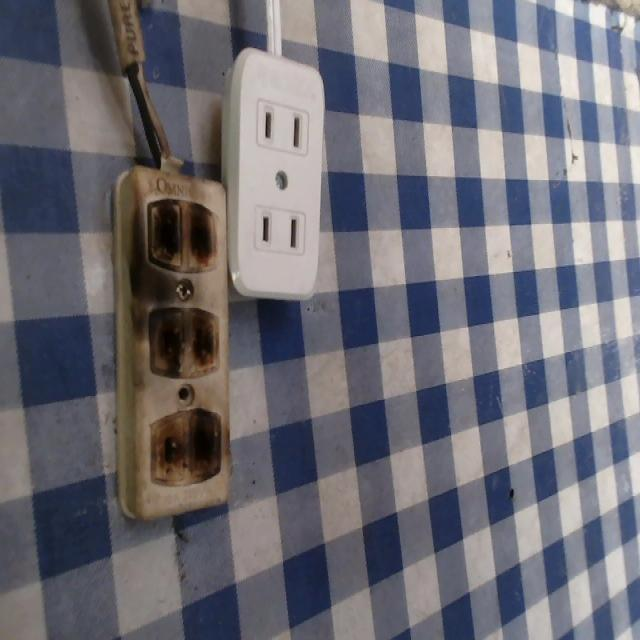-: (147, 401, 226, 492), (147, 194, 220, 278), (144, 306, 219, 382)
